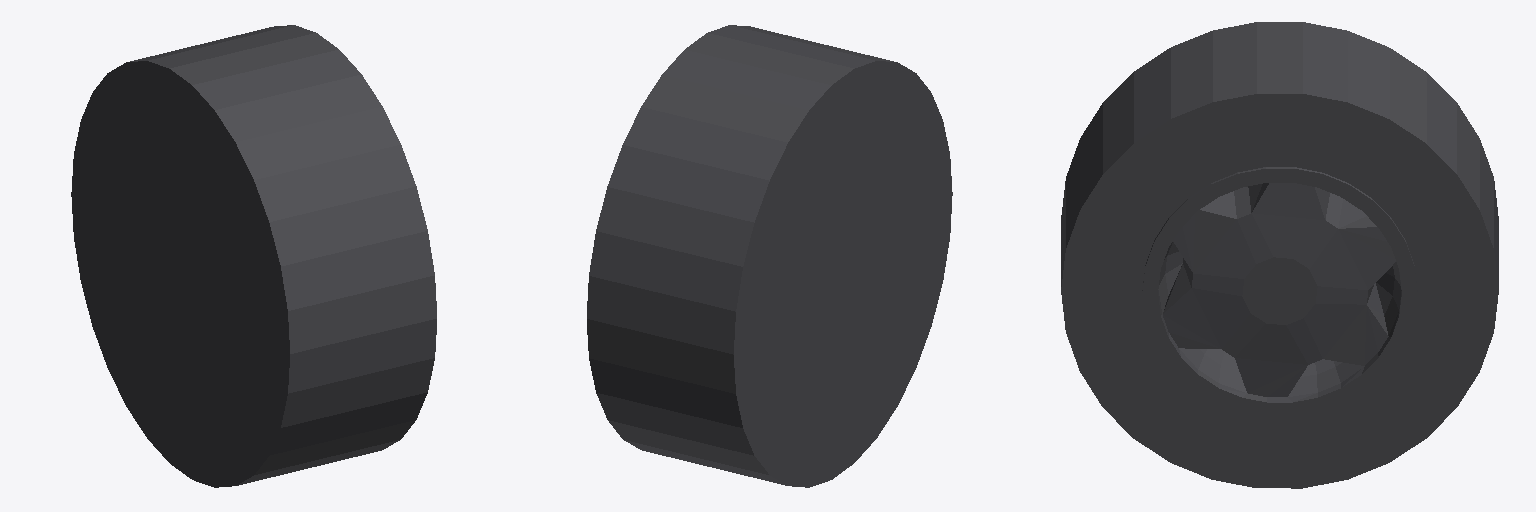
3 views of the same model, side by side, from view 1: azimuth 30°, elevation 25°; view 2: azimuth 150°, elevation 25°; view 3: azimuth 270°, elevation 25° (orthographic).
Parts seen in each view (by area): view 1: llanta1; view 2: llanta1; view 3: llanta1.
Boxes of the visible parts, x1=… form: llanta1: x1=71, y1=25, x2=436, y2=487; llanta1: x1=587, y1=25, x2=952, y2=487; llanta1: x1=1061, y1=22, x2=1498, y2=488.
Bounding box in the file's own units: 0.0578 × 0.1449 × 0.1457.
Materials: 1 (1 with a texture image).